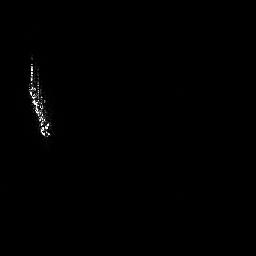ship: (27, 53, 55, 140)
